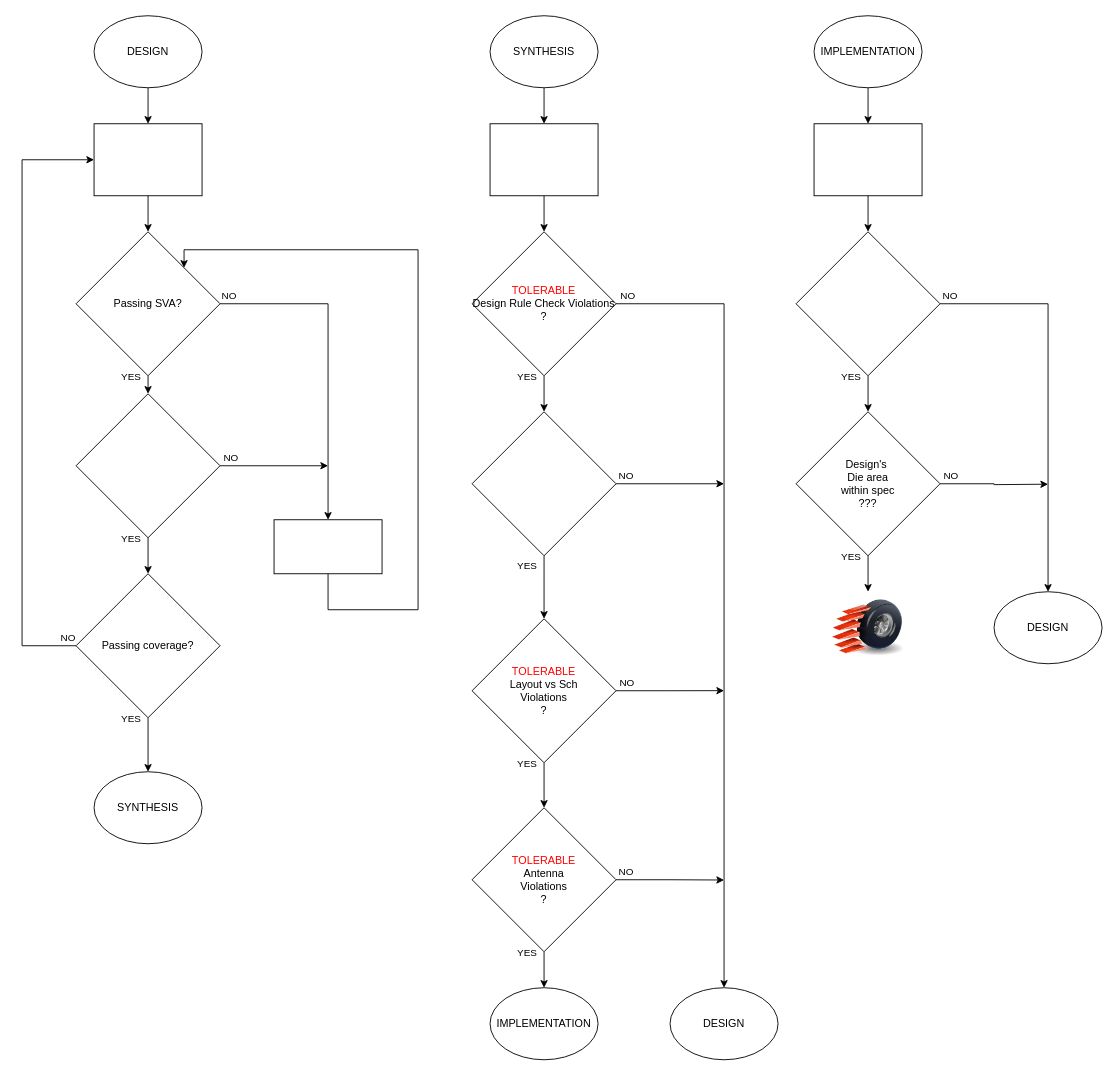
This 1118x1076 diagram has some shape labels left out. The shapes that lost their labels are listed below. From the top down, each one's box as (x1, y1, x2, y2) in pixels, then its label:
(93, 123, 202, 196): Write testcase - SVA Immed - SVA Concurr - Formal BMC - Formal Ind
(489, 123, 598, 196): LibreLane Synthesis
(813, 123, 922, 196): IVerilog Gate-Level Testing
(795, 231, 940, 376): Passing SVA & Passing Formal & Passing Coverage ???
(75, 393, 220, 538): Passing formal?
(471, 411, 616, 556): TOLERABLE Static Timing (Setup, Hold, Skew) Violations ?
(273, 519, 382, 574): Write RTL
